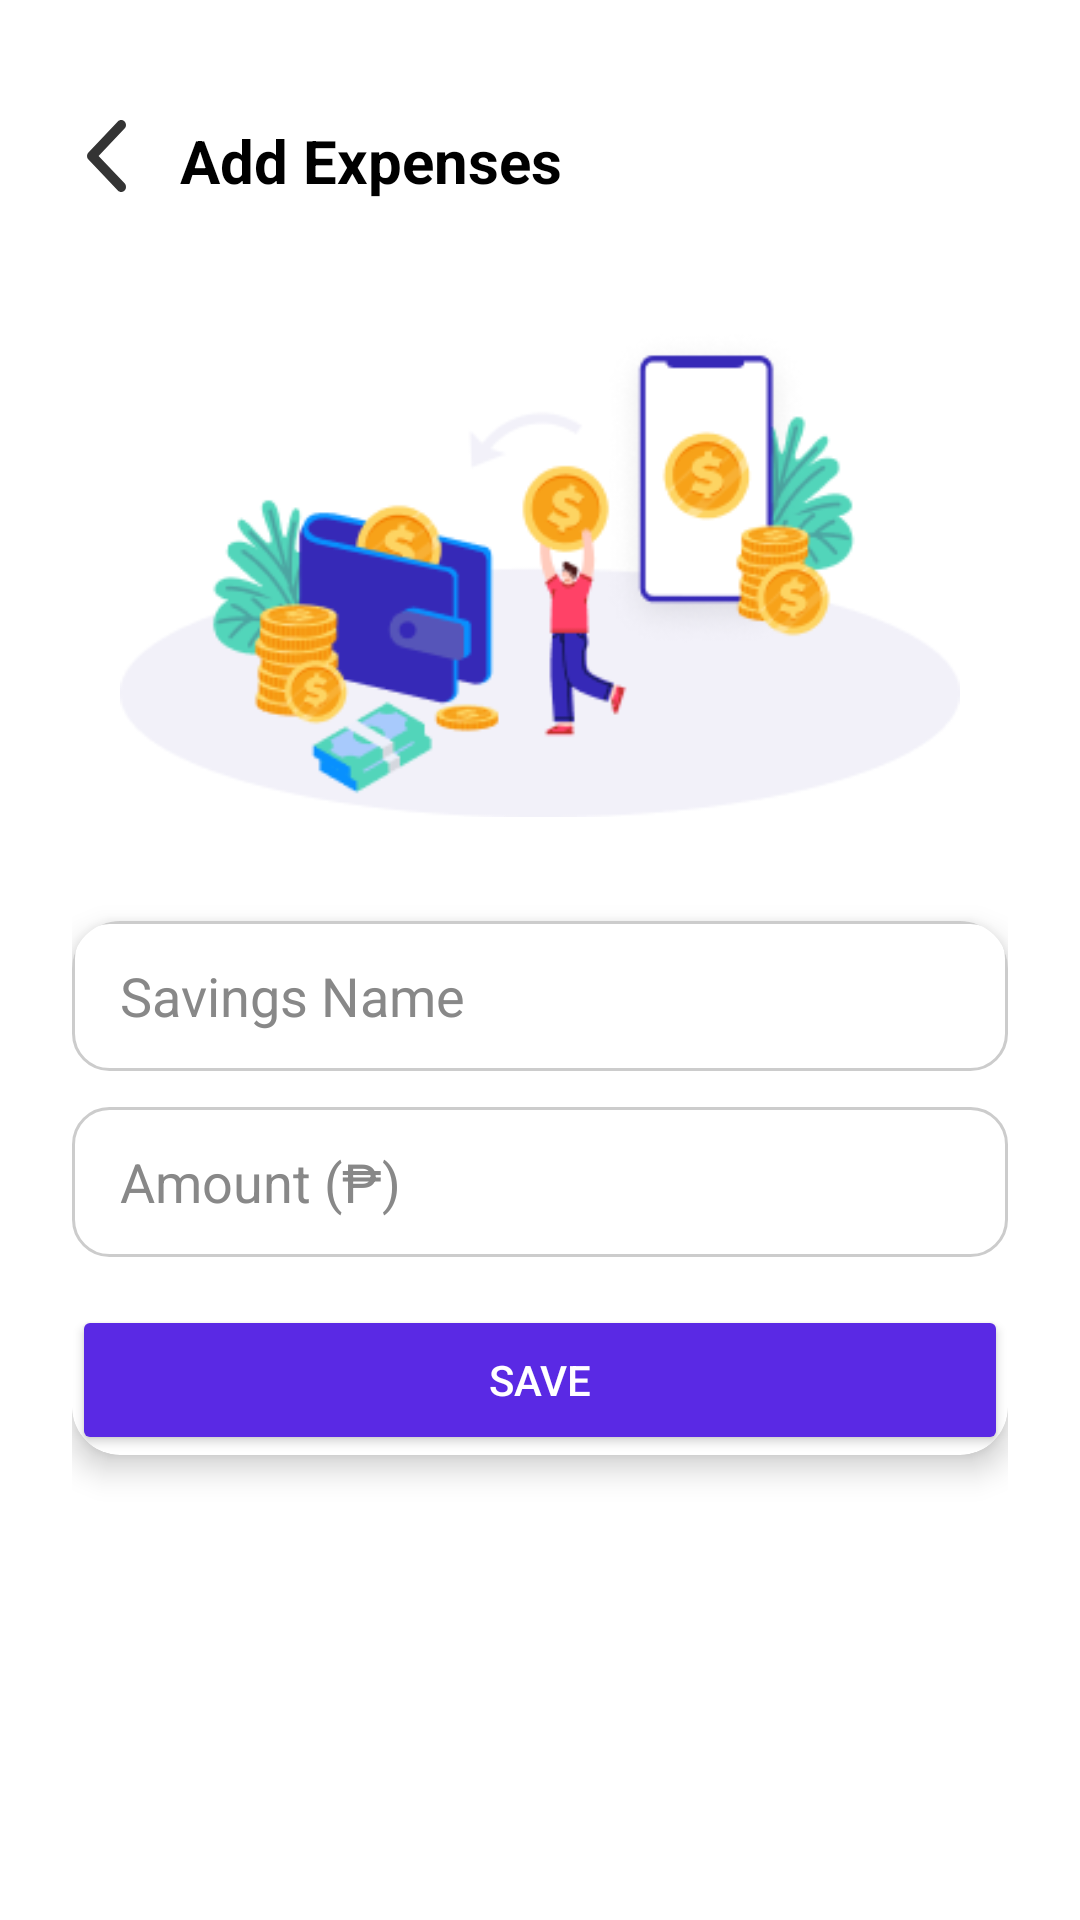

Screen size 1080×1920. Icon name, then its box in pixels as (x1, y1, x2, y2):
Back: (87, 120, 126, 192)
